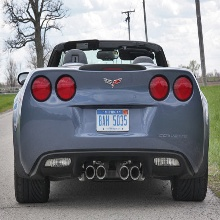no damage: (13, 40, 211, 206)
